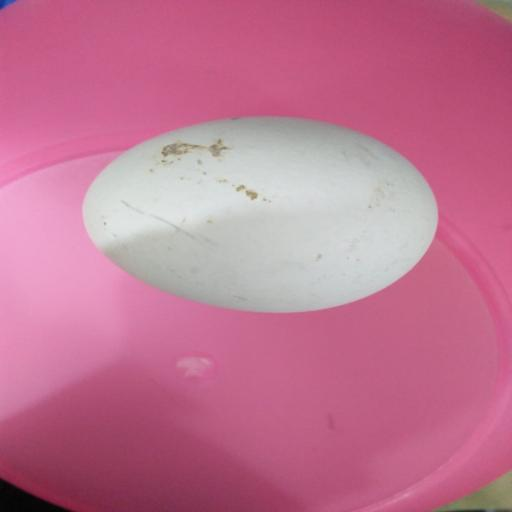telur: (78, 108, 448, 324)
